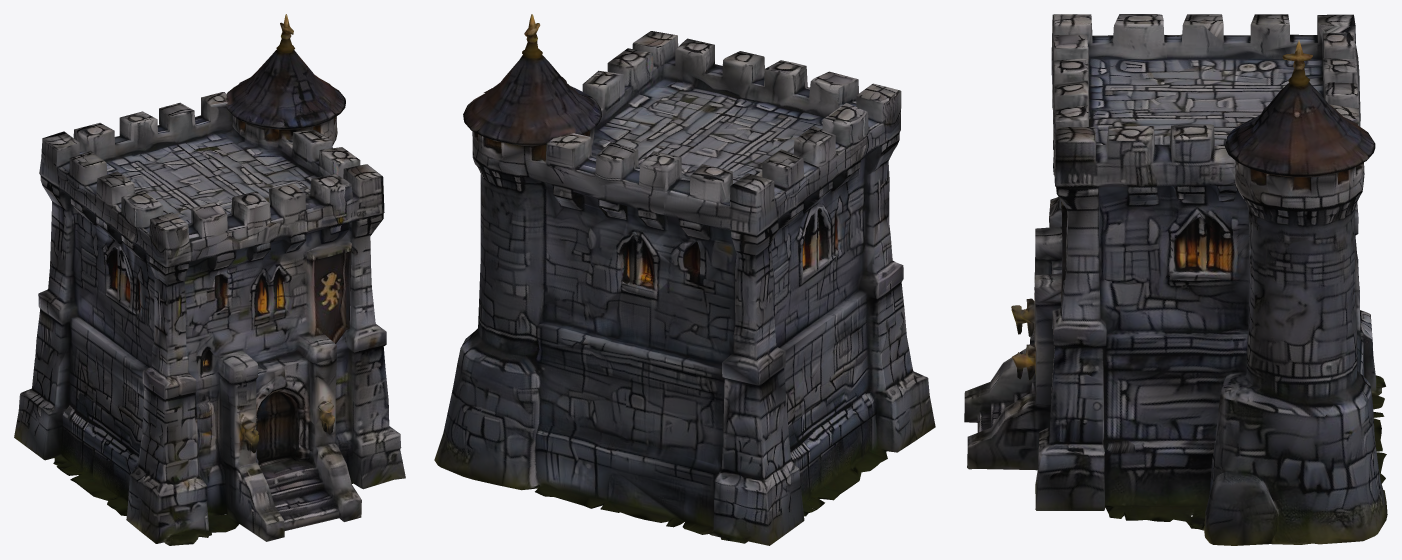
File: n_keep.glb
3 renders of one model, left to right at view 1: azimuth 30°, elevation 25°; view 2: azimuth 150°, elevation 25°; view 3: azimuth 270°, elevation 25°, orthographic. The views are drawn at different scales.
Visible parts, largest first — view 1: tripo_node_c734f18e-27a4-4c9c-8fac-990196a8f00d; view 2: tripo_node_c734f18e-27a4-4c9c-8fac-990196a8f00d; view 3: tripo_node_c734f18e-27a4-4c9c-8fac-990196a8f00d.
Boxes of the visible parts, left/top/right/bottom form: tripo_node_c734f18e-27a4-4c9c-8fac-990196a8f00d: left=14, top=14, right=405, bottom=545; tripo_node_c734f18e-27a4-4c9c-8fac-990196a8f00d: left=434, top=14, right=935, bottom=545; tripo_node_c734f18e-27a4-4c9c-8fac-990196a8f00d: left=964, top=14, right=1387, bottom=545.
Bounding box in the file's own units: 4.2 × 5.07 × 4.13.
1 material, 1 textured.
